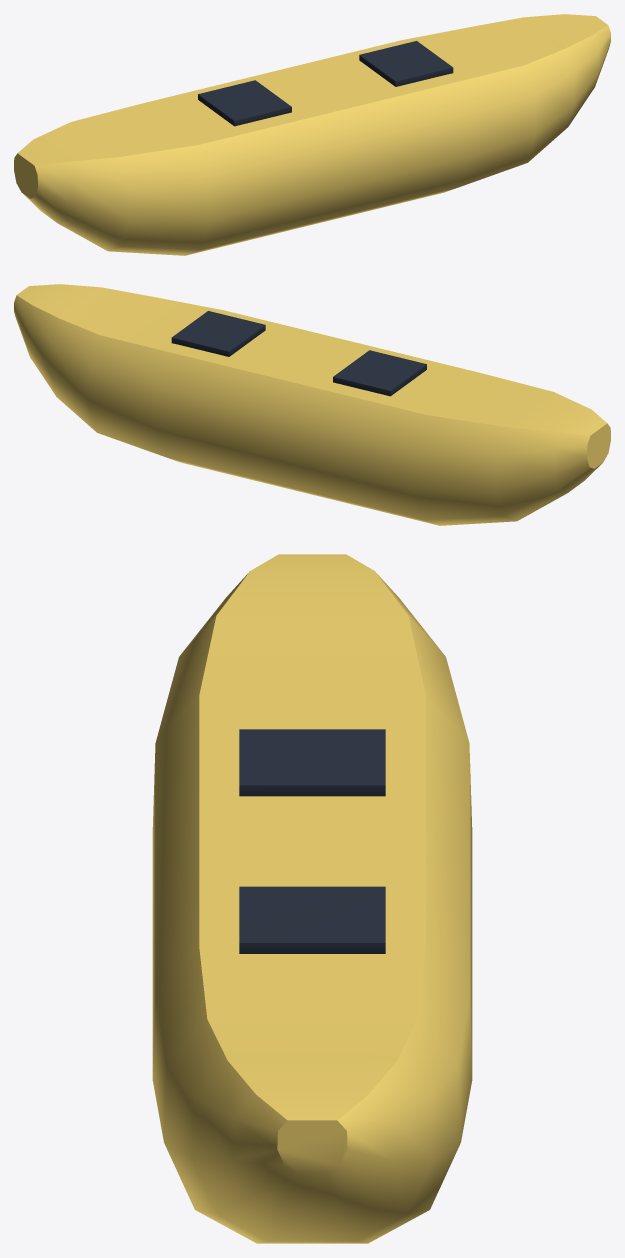
Rendered from float.glb.
The picture shows the model from 3 angles, top to bottom: view 1: azimuth 30°, elevation 25°; view 2: azimuth 150°, elevation 25°; view 3: azimuth 270°, elevation 25°; orthographic projection. The views are drawn at different scales.
Parts seen in each view (by area): view 1: trim, dark; view 2: trim, dark; view 3: trim, dark.
Part boxes in pixels (left/top/right/bottom): trim: left=14, top=14, right=610, bottom=255; dark: left=198, top=41, right=453, bottom=126; trim: left=14, top=284, right=610, bottom=525; dark: left=171, top=311, right=426, bottom=396; trim: left=152, top=554, right=472, bottom=1243; dark: left=239, top=729, right=385, bottom=953.
Size of the model in its own units: 1 by 0.209 by 0.24.
